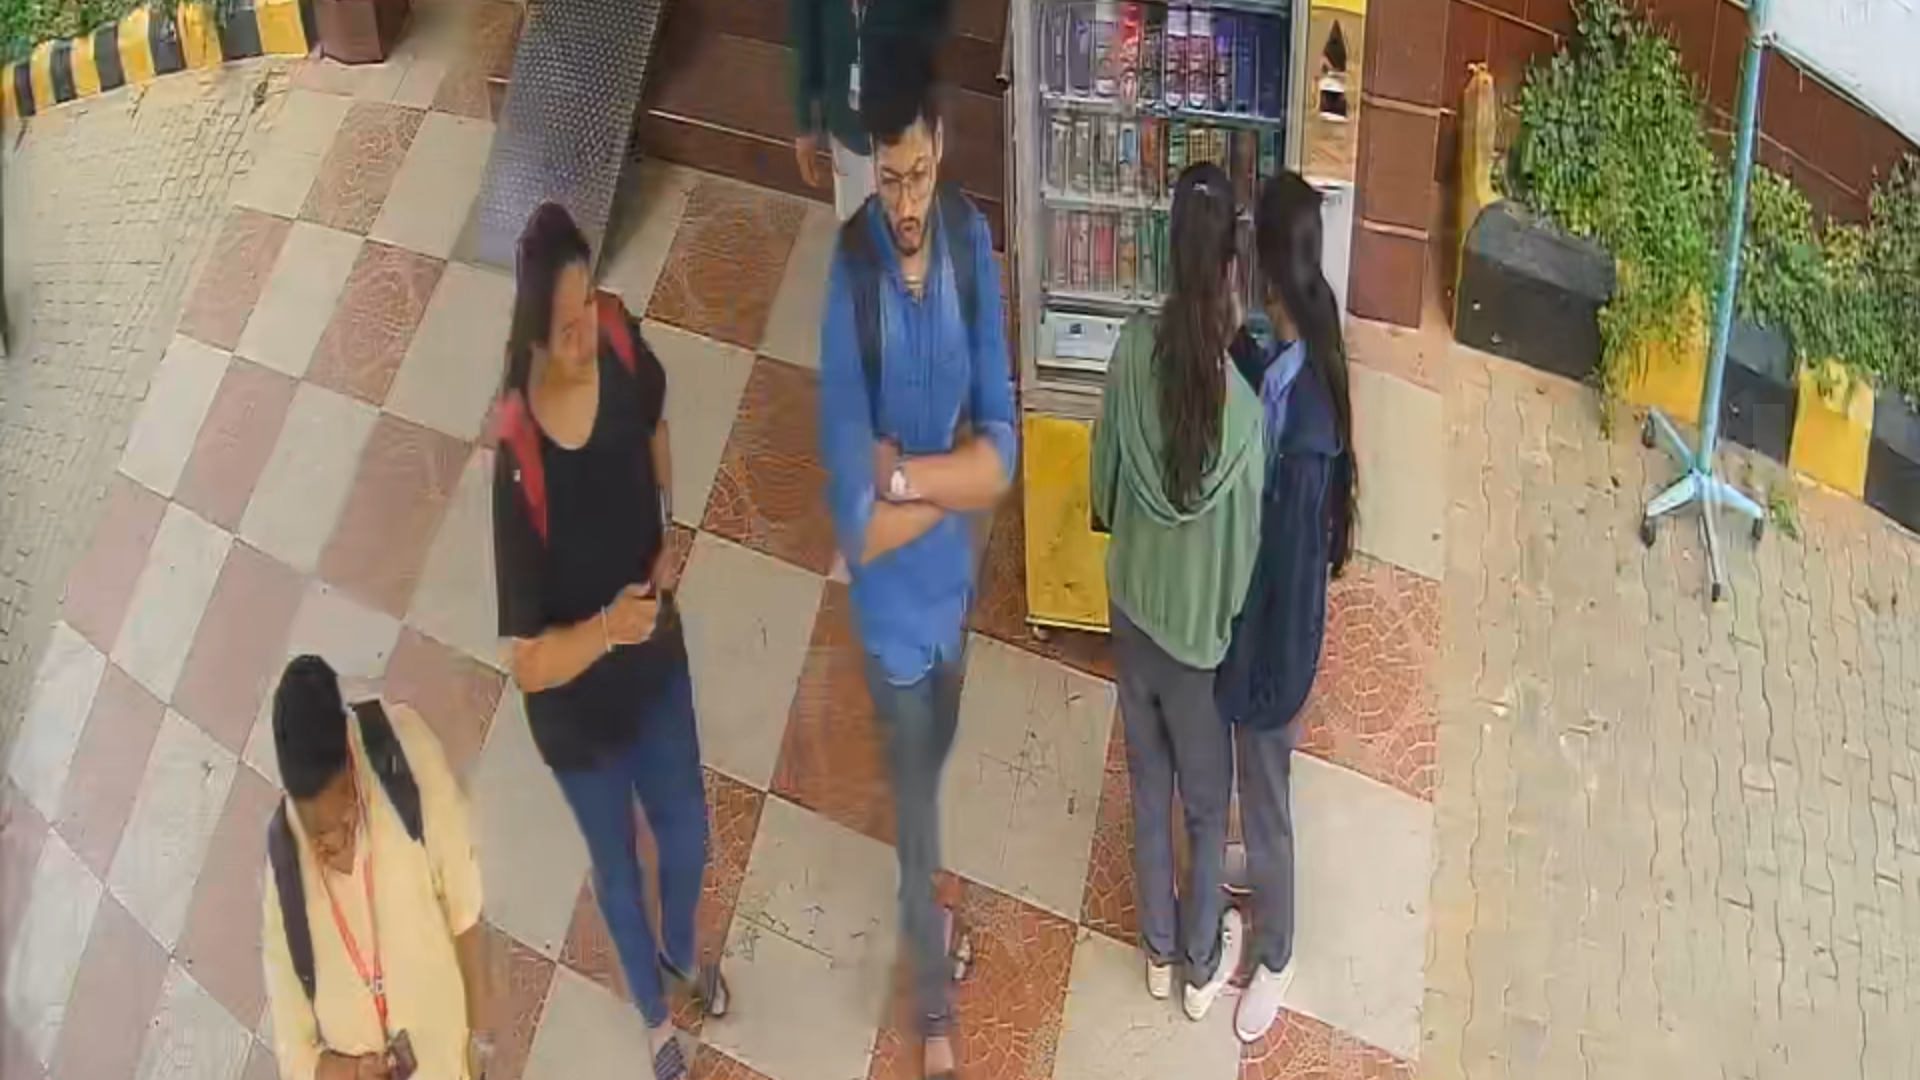intruder: (459, 208, 761, 1080), (806, 73, 1022, 1080)
not intruder: (243, 646, 510, 1080)
